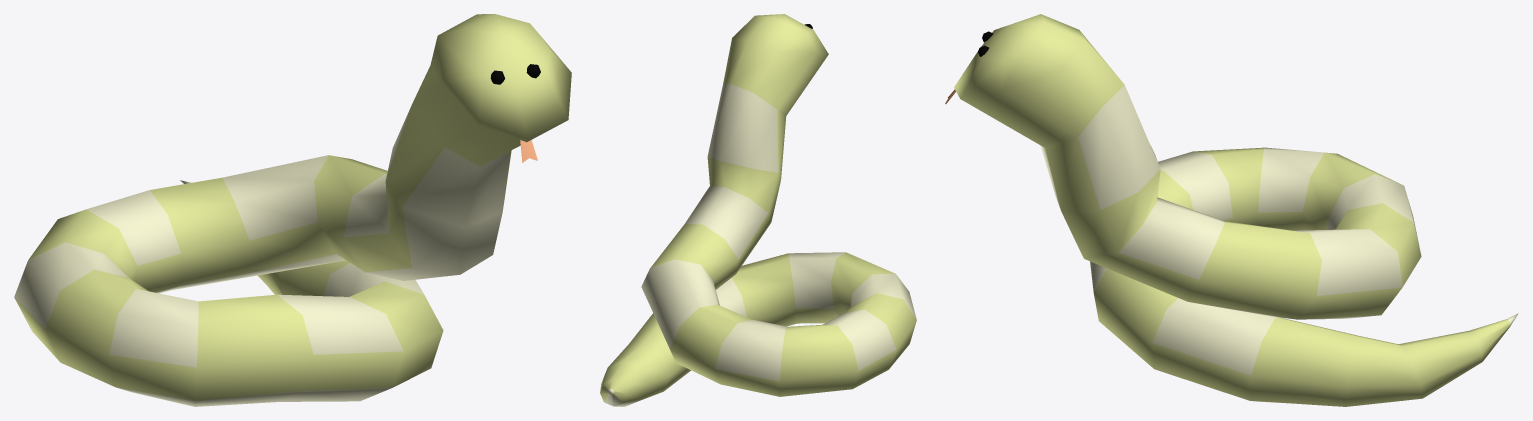
Rendered from snaek.glb.
The picture shows the model from 3 angles, left to right: view 1: azimuth 30°, elevation 25°; view 2: azimuth 150°, elevation 25°; view 3: azimuth 270°, elevation 25°; orthographic projection. The views are drawn at different scales.
Parts seen in each view (by area): view 1: pCylinder2; view 2: pCylinder2; view 3: pCylinder2.
Boxes of the visible parts, x1,y1,x2,y2 form: pCylinder2: (14,14,571,406); pCylinder2: (600,14,916,406); pCylinder2: (945,14,1518,406).
Size of the model in its own units: 0.0418 by 0.047 by 0.064.
